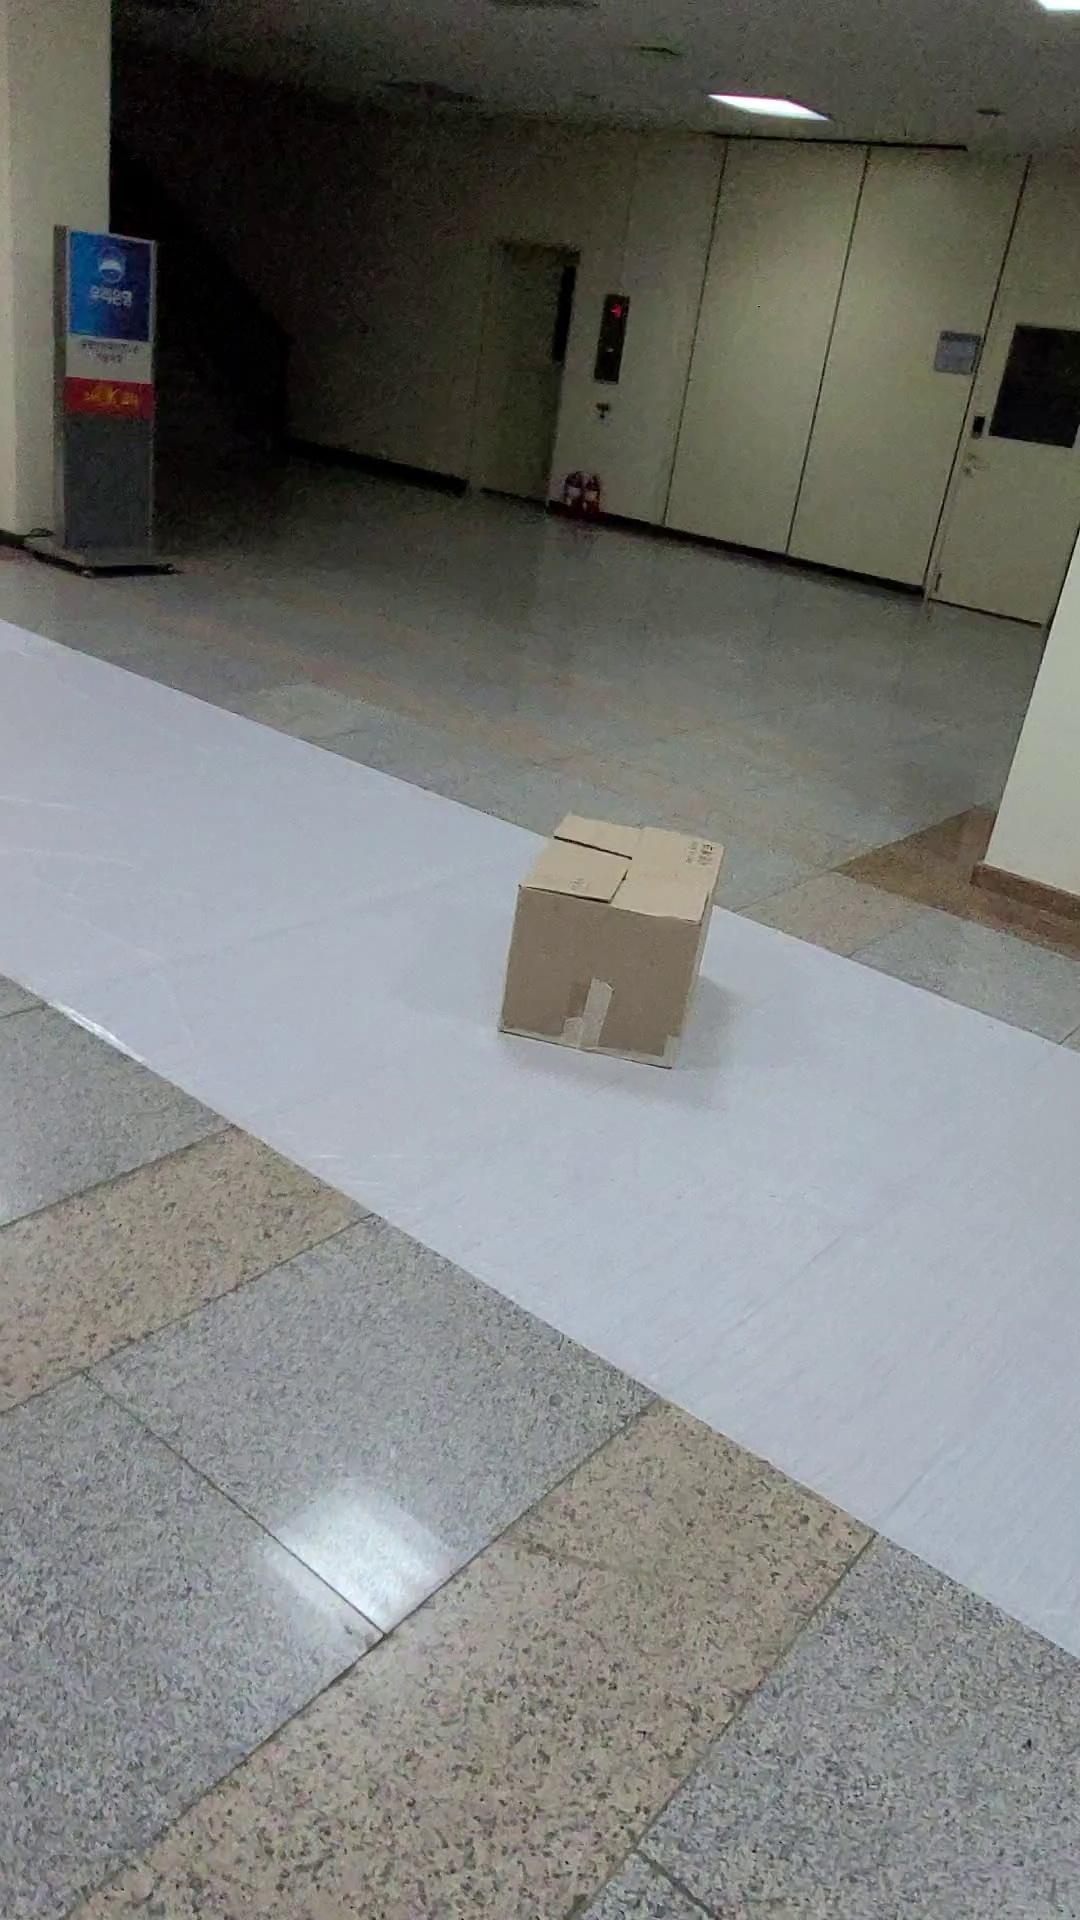Box: (456, 804, 756, 1092)
